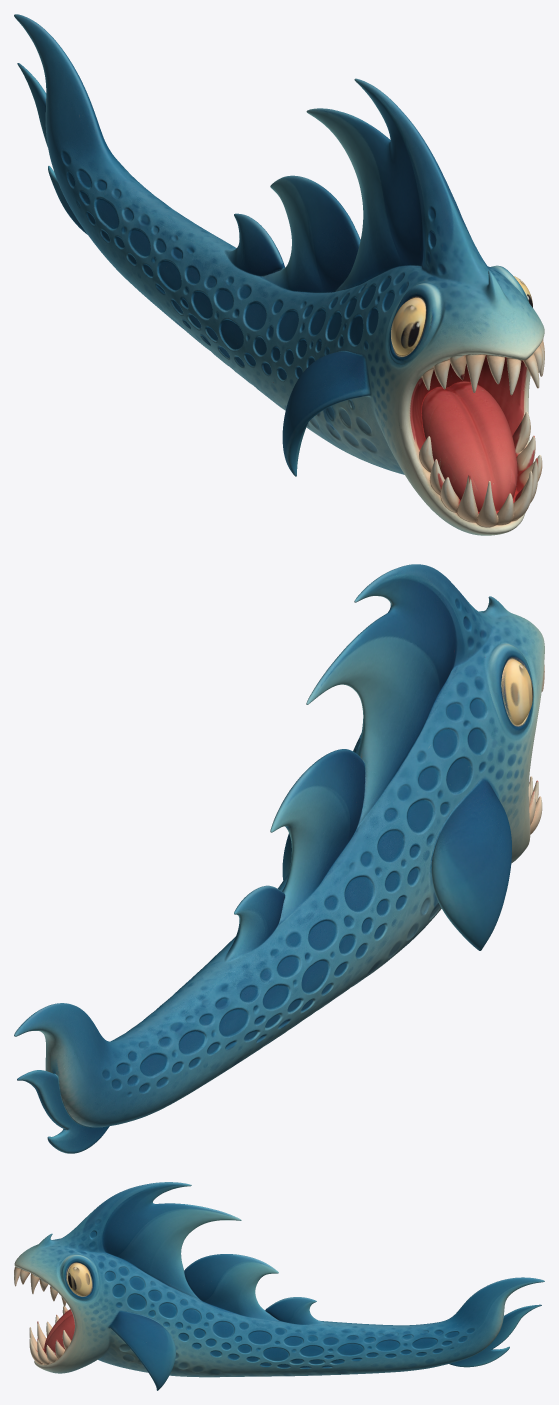
File: Meshy_AI_Snappy_the_Sea_Monste_1005073950_texture.glb
3 views of the same model, one above another, from view 1: azimuth 30°, elevation 25°; view 2: azimuth 150°, elevation 25°; view 3: azimuth 270°, elevation 25° (orthographic). The views are drawn at different scales.
Size of the model in its own units: 0.4602 by 0.7601 by 1.9.
Materials: 1 (1 with a texture image).
